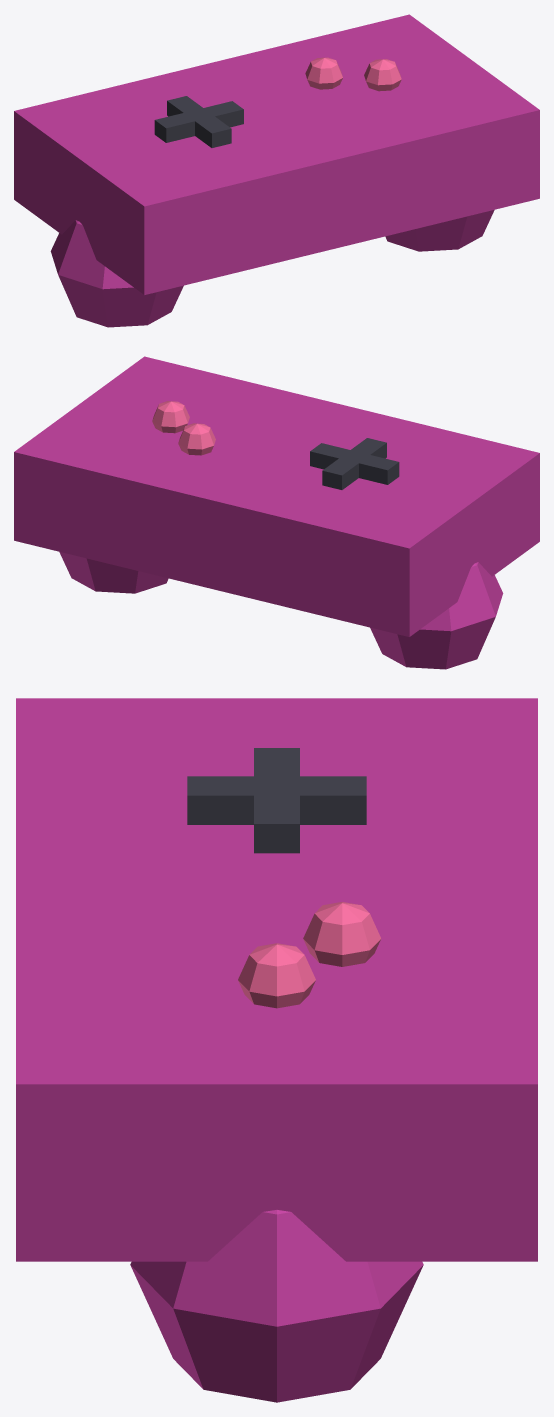
File: prop_controller.glb
The picture shows the model from 3 angles, top to bottom: view 1: azimuth 30°, elevation 25°; view 2: azimuth 150°, elevation 25°; view 3: azimuth 270°, elevation 25°; orthographic projection. The views are drawn at different scales.
Parts seen in each view (by area): view 1: Body, GripL, GripR, DPadH, DPadV, BtnA, BtnB; view 2: Body, GripL, GripR, DPadH, DPadV, BtnA, BtnB; view 3: Body, GripR, DPadV, DPadH, BtnB, BtnA.
Boxes of the visible parts, <box> form: Body: <box>14,14,539,294</box>; GripL: <box>50,220,183,327</box>; GripR: <box>385,210,494,251</box>; DPadH: <box>154,101,243,142</box>; DPadV: <box>167,96,231,147</box>; BtnA: <box>305,57,342,89</box>; BtnB: <box>364,59,401,91</box>; Body: <box>14,356,539,636</box>; GripL: <box>370,562,503,669</box>; GripR: <box>59,552,168,593</box>; DPadH: <box>310,443,399,484</box>; DPadV: <box>322,438,386,489</box>; BtnA: <box>178,423,215,455</box>; BtnB: <box>152,401,189,433</box>; Body: <box>16,698,537,1261</box>; GripR: <box>130,1210,423,1402</box>; DPadV: <box>187,776,366,824</box>; DPadH: <box>254,748,299,853</box>; BtnB: <box>238,943,315,1008</box>; BtnA: <box>303,902,381,966</box>.
Size of the model in its own units: 0.31 by 0.137 by 0.16.
